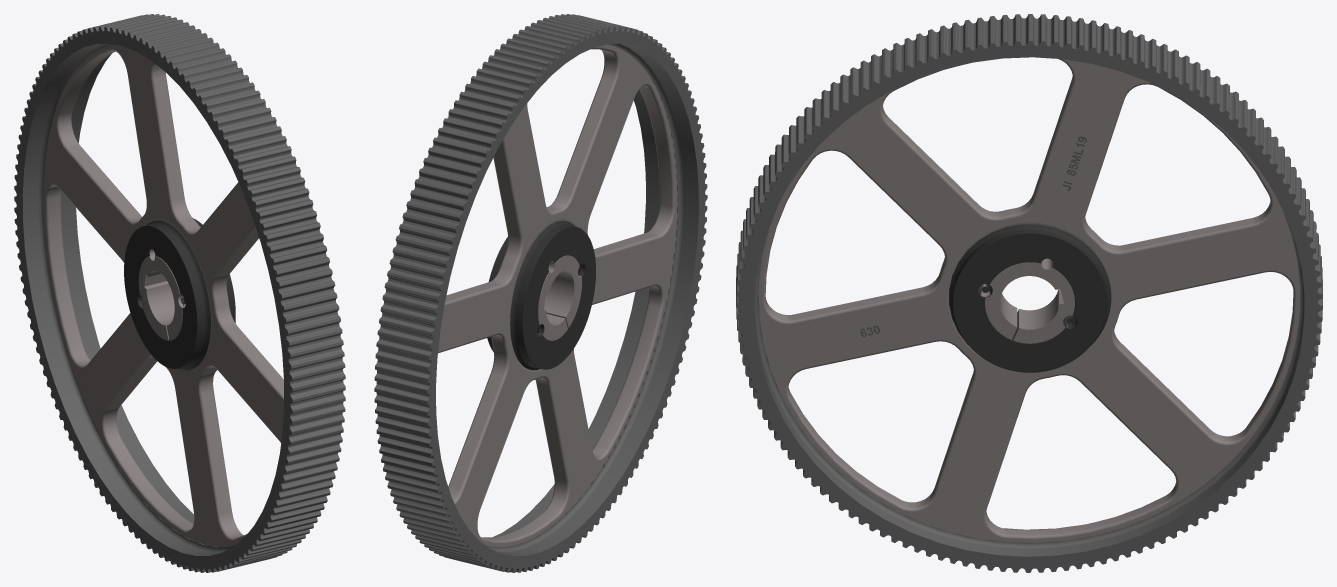
The model's file is Timing pulley.glb.
3 renders of one model, left to right at view 1: azimuth 30°, elevation 25°; view 2: azimuth 150°, elevation 25°; view 3: azimuth 270°, elevation 25°, orthographic. The views are drawn at different scales.
Parts seen in each view (by area): view 1: Outer, 14M-144T-55-3020007, 14M-144T-55-3020007_1, Inside_round; view 2: Outer, 14M-144T-55-3020007, 14M-144T-55-3020007_1, Inside_round; view 3: 14M-144T-55-3020007, Outer, 14M-144T-55-3020007_1, Inside_round.
Boxes of the visible parts, x1=… form: Outer: x1=14, y1=14, x2=345, y2=572; 14M-144T-55-3020007: x1=43, y1=44, x2=283, y2=546; 14M-144T-55-3020007_1: x1=124, y1=218, x2=235, y2=369; Inside_round: x1=138, y1=255, x2=185, y2=340; Outer: x1=374, y1=14, x2=707, y2=572; 14M-144T-55-3020007: x1=438, y1=44, x2=677, y2=546; 14M-144T-55-3020007_1: x1=487, y1=220, x2=595, y2=369; Inside_round: x1=537, y1=255, x2=582, y2=340; 14M-144T-55-3020007: x1=758, y1=59, x2=1299, y2=542; Outer: x1=736, y1=14, x2=1322, y2=572; 14M-144T-55-3020007_1: x1=949, y1=224, x2=1111, y2=372; Inside_round: x1=981, y1=258, x2=1074, y2=343.
Size of the model in its own units: 0.071 by 0.6389 by 0.639.
Materials: 4 (1 with a texture image).
